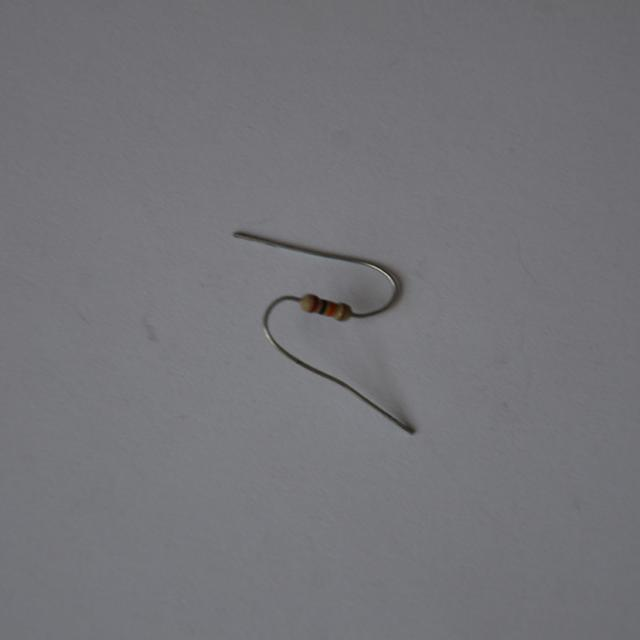black: (319, 300, 328, 314)
gold: (339, 304, 348, 321)
red: (311, 295, 319, 312), (327, 302, 335, 315)
resistor: (298, 290, 355, 328)
